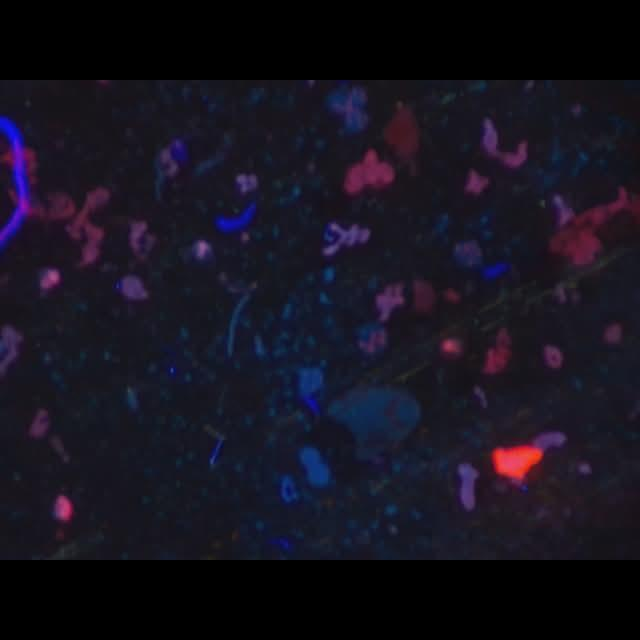Fragment: (492, 445, 542, 479)
